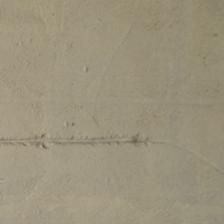Crack: (3, 65, 156, 93)
